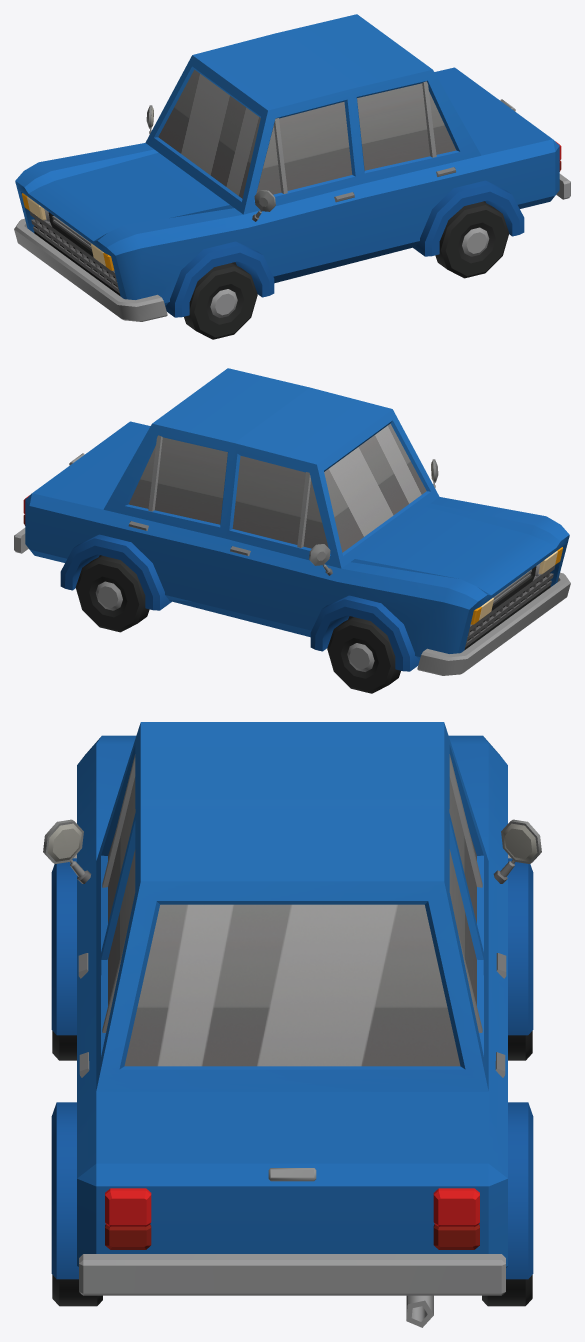
The model's file is Car_5_I.gltf.
3 views of the same model, one above another, from view 1: azimuth 30°, elevation 25°; view 2: azimuth 150°, elevation 25°; view 3: azimuth 270°, elevation 25° (orthographic). The views are drawn at different scales.
Parts seen in each view (by area): view 1: Car_5_I, RR, FL; view 2: Car_5_I, RL, FR; view 3: Car_5_I, RR, RL.
Part boxes in pixels (<box>): Car_5_I: <box>14,14,570,321</box>; RR: <box>435,201,509,278</box>; FL: <box>184,263,257,339</box>; Car_5_I: <box>14,368,570,675</box>; RL: <box>75,555,149,632</box>; FR: <box>327,617,400,693</box>; Car_5_I: <box>43,722,541,1327</box>; RR: <box>52,1275,102,1306</box>; RL: <box>482,1275,532,1306</box>.
Size of the model in its own units: 3.55 by 1.45 by 1.67.
4 materials, 4 textured.
